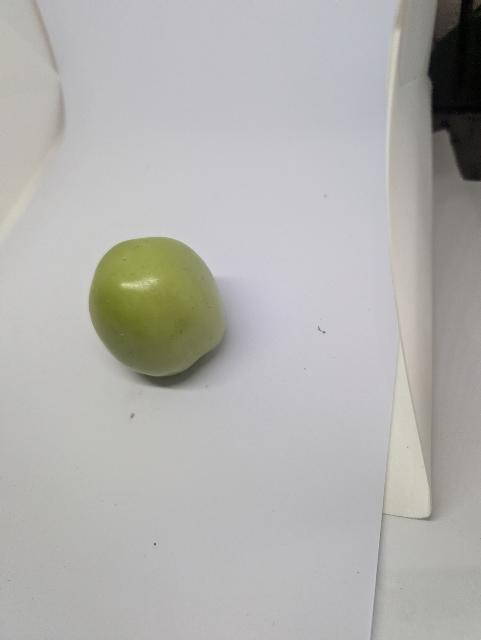green: (72, 227, 235, 395)
